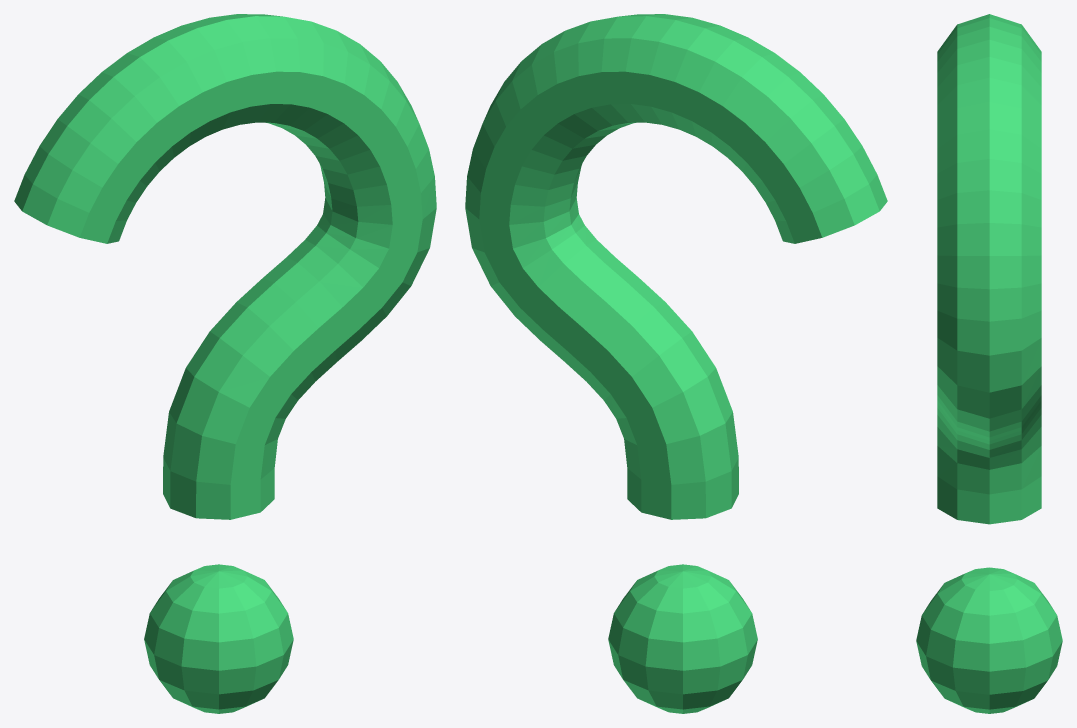
The model's file is question.obj.
3 views of the same model, side by side, from view 1: azimuth 30°, elevation 25°; view 2: azimuth 150°, elevation 25°; view 3: azimuth 270°, elevation 25° (orthographic). The views are drawn at different scales.
Visible parts, largest first — view 1: question; view 2: question; view 3: question.
Boxes of the visible parts, x1,y1,x2,y2 form: question: (14, 14, 436, 713); question: (465, 14, 887, 713); question: (916, 14, 1062, 713).
Size of the model in its own units: 1.26 by 2.02 by 0.4.
